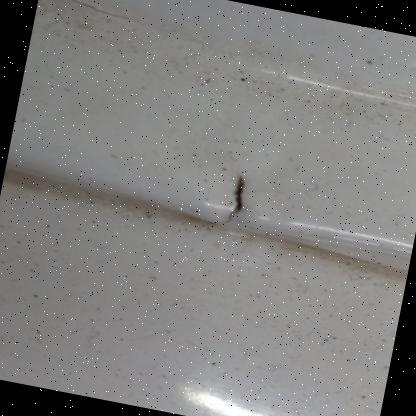Crack: (188, 157, 286, 249), (33, 0, 152, 44)
